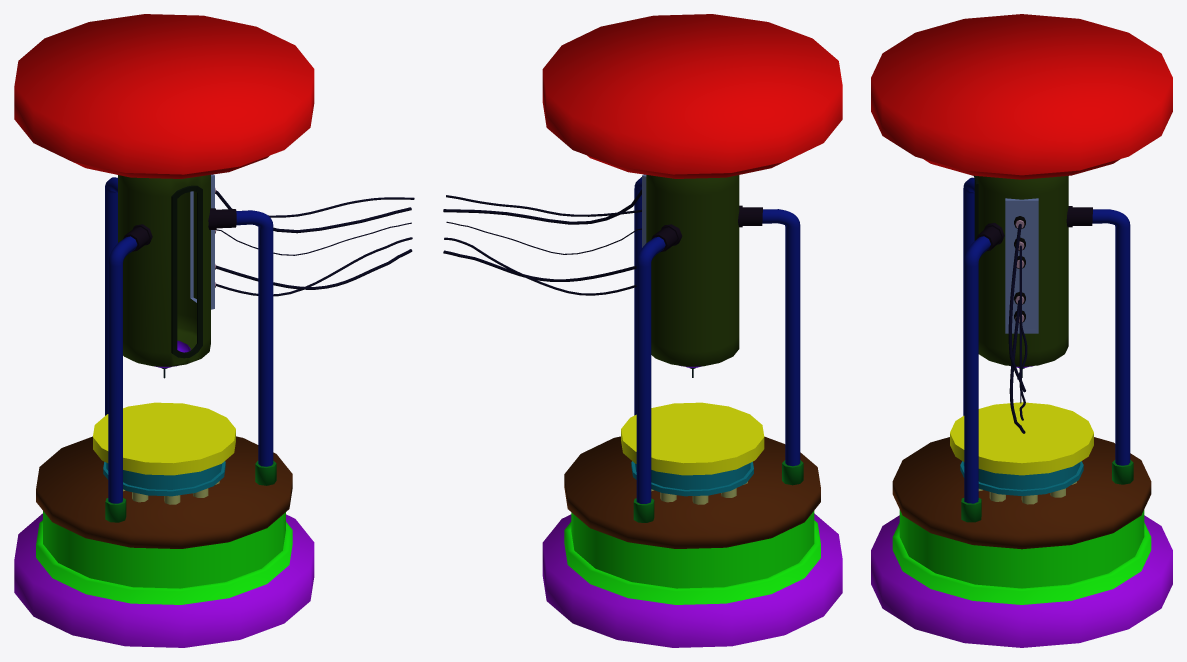
File: DrugMaker1_low.FBX
3 views of the same model, side by side, from view 1: azimuth 30°, elevation 25°; view 2: azimuth 150°, elevation 25°; view 3: azimuth 270°, elevation 25° (orthographic).
Visible parts, largest first — view 1: Cylinder009; view 2: Cylinder009; view 3: Cylinder009.
Part boxes in pixels (x1,y1,x2,y2): Cylinder009: [14, 14, 414, 647]; Cylinder009: [443, 14, 842, 647]; Cylinder009: [871, 14, 1172, 647].
Bounding box in the file's own units: 132 × 169 × 91.29.
